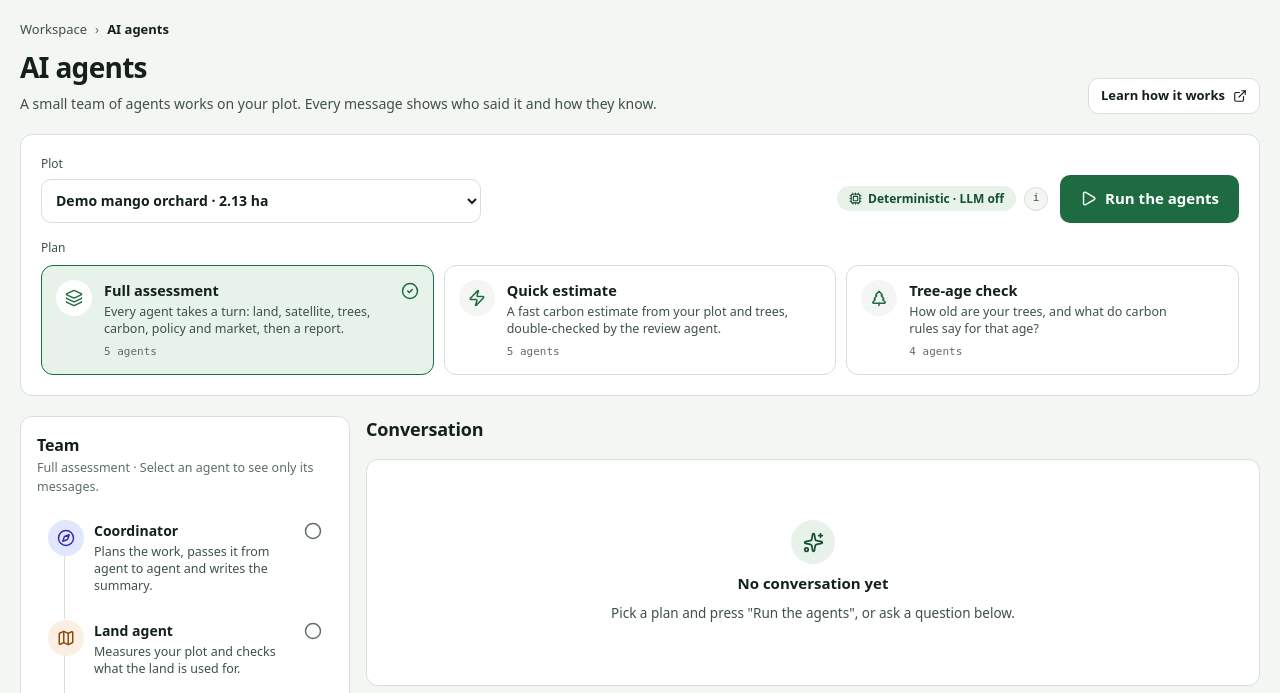
AgentsPage › runs the agents and shows the conversation, the summary and the guardrails
The width and height of the screenshot is (1280, 693).
Click the button "Run the agents". click: (1150, 198)
box: [1060,174,1239,222]
(page scrolled)
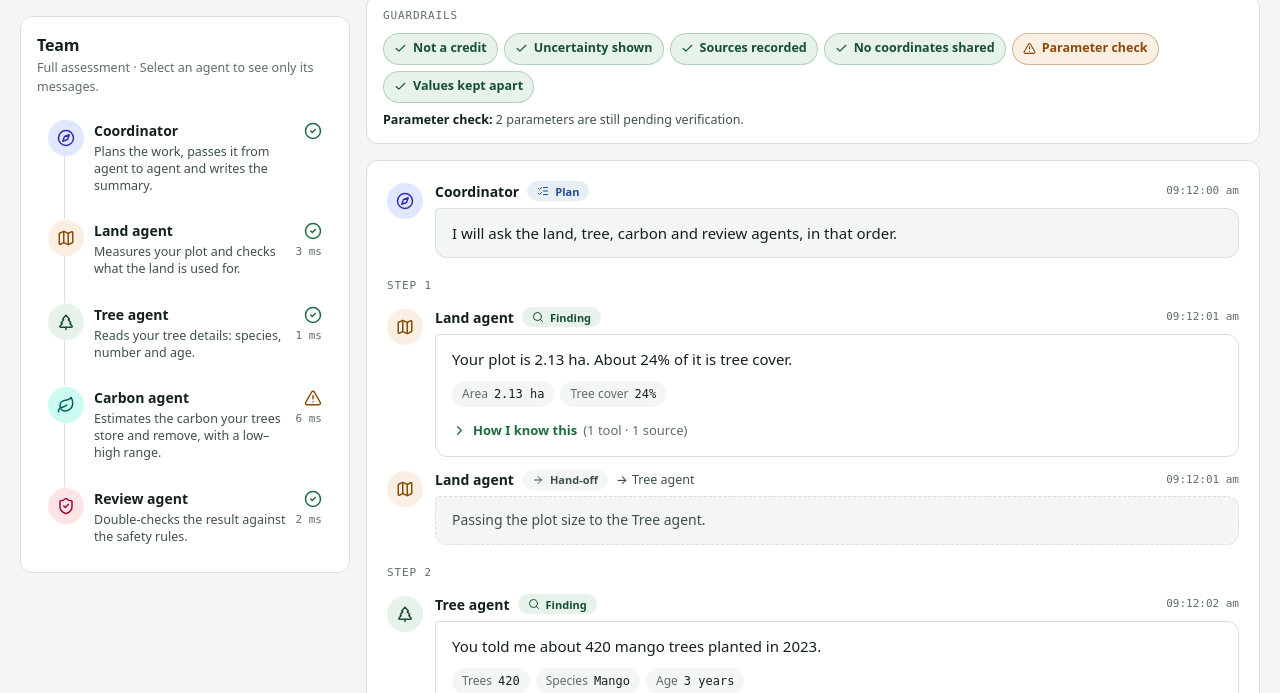
expect the text "Your plot is 2.13 ha. About 24% of it is tree cover." is shown: met, box [452,348,792,368]
expect the text "You told me about 420 mango trees planted in 2023." is shown: met, box [452,636,821,656]
expect the element named "Land agent — Hand-off" is shown: met, box [387,469,1239,545]
